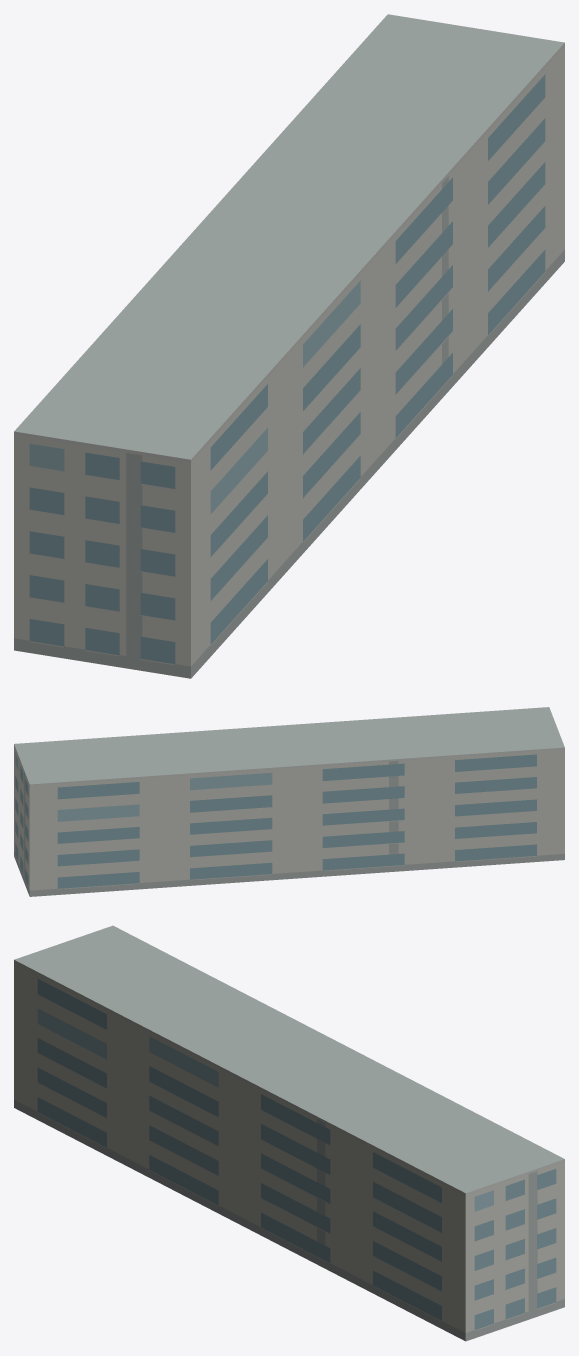
File: residential-adead34a-725e-452c-8cbe-30caba5c28a7.glb
3 renders of one model, top to bottom at view 1: azimuth 30°, elevation 25°; view 2: azimuth 150°, elevation 25°; view 3: azimuth 270°, elevation 25°, orthographic. The views are drawn at different scales.
Parts seen in each view (by area): view 1: residential-adead34a-725e-452c-8cbe-30caba5c28a7.tmp; view 2: residential-adead34a-725e-452c-8cbe-30caba5c28a7.tmp; view 3: residential-adead34a-725e-452c-8cbe-30caba5c28a7.tmp.
Part boxes in pixels (bbox=[...]): residential-adead34a-725e-452c-8cbe-30caba5c28a7.tmp: bbox=[14, 14, 564, 678]; residential-adead34a-725e-452c-8cbe-30caba5c28a7.tmp: bbox=[14, 707, 564, 896]; residential-adead34a-725e-452c-8cbe-30caba5c28a7.tmp: bbox=[14, 925, 564, 1341].
Size of the model in its own units: 59.15 by 15.25 by 51.42.
